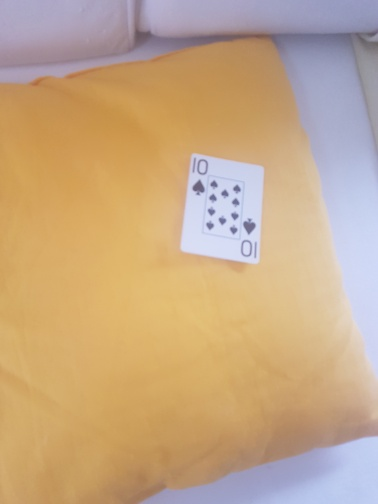ten: (177, 154, 266, 265)
